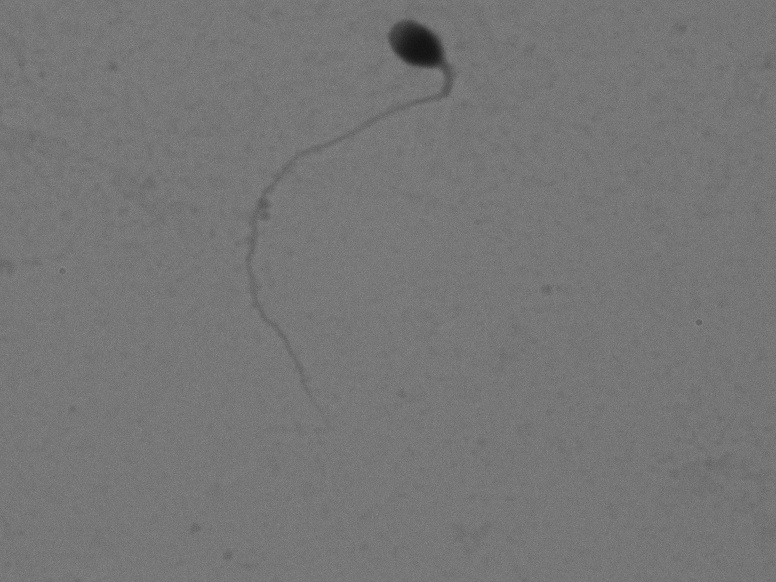Normal: (200, 11, 547, 425)
